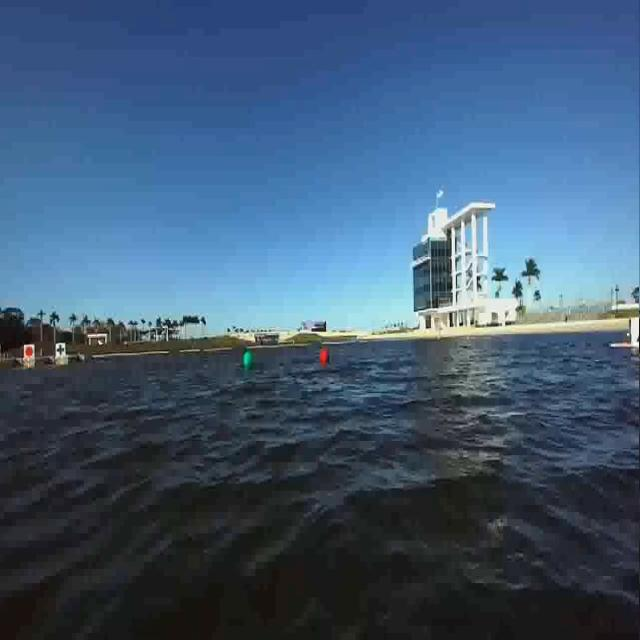green-buoy: (242, 350, 255, 369)
red-column-buoy: (321, 349, 328, 363)
